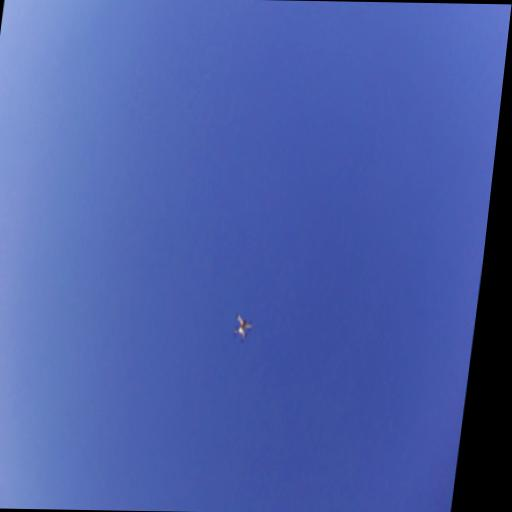drones: (231, 308, 257, 346)
